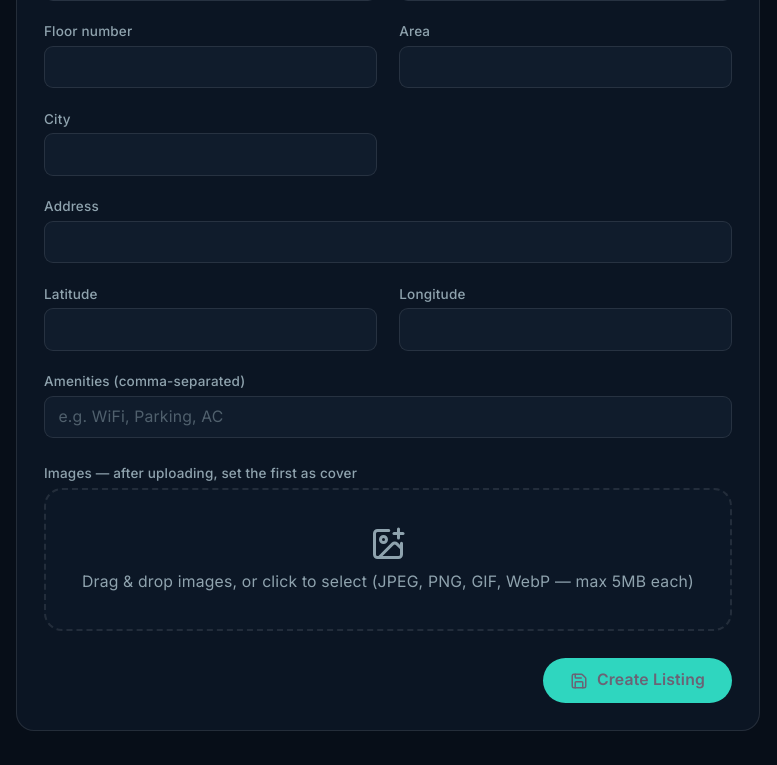
Create listing › shows validation errors when submitting empty form
(page scrolled)
Click the button "Create Listing".
click(637, 681)  # box 543,658 -> 732,703
(page scrolled)
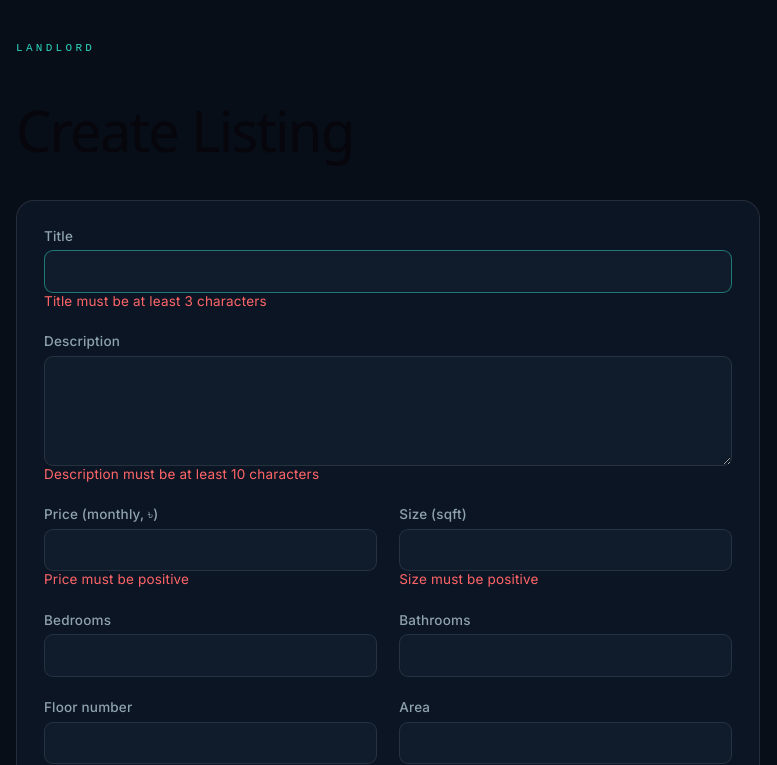
Result: the text "Title must be at least 3 characters" is shown at 44,293 -> 267,309
Result: the text "Description must be at least 10 characters" is shown at 44,466 -> 319,482
